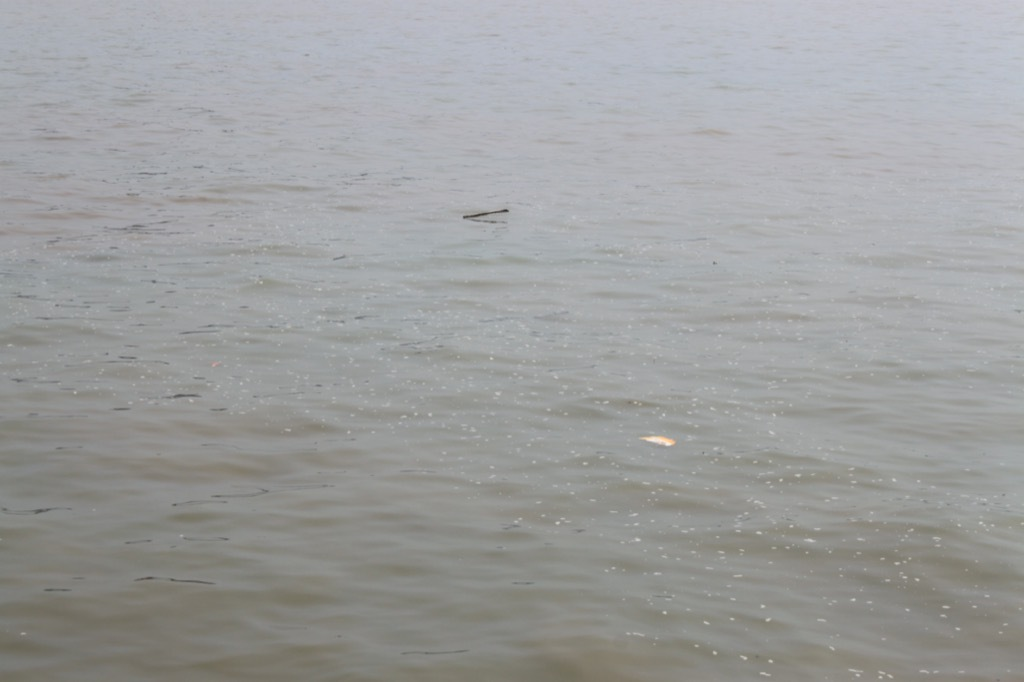organic: (453, 198, 517, 236), (704, 254, 727, 270)
plastic: (635, 425, 680, 454)
